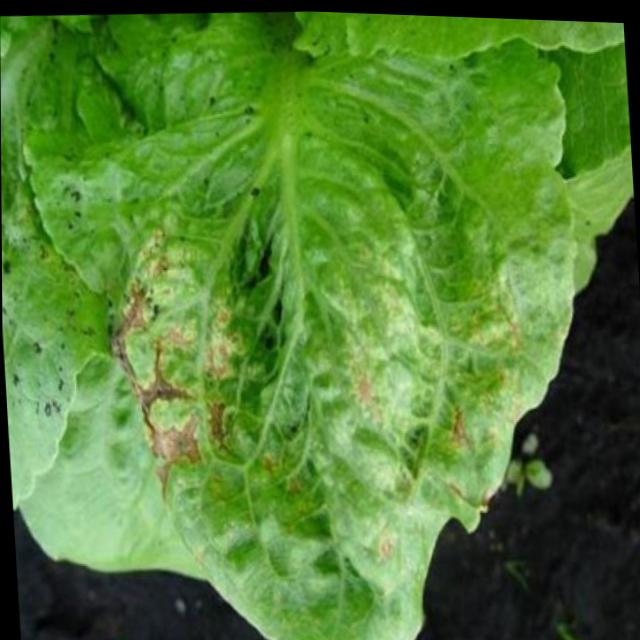Bad: (26, 13, 575, 640)
